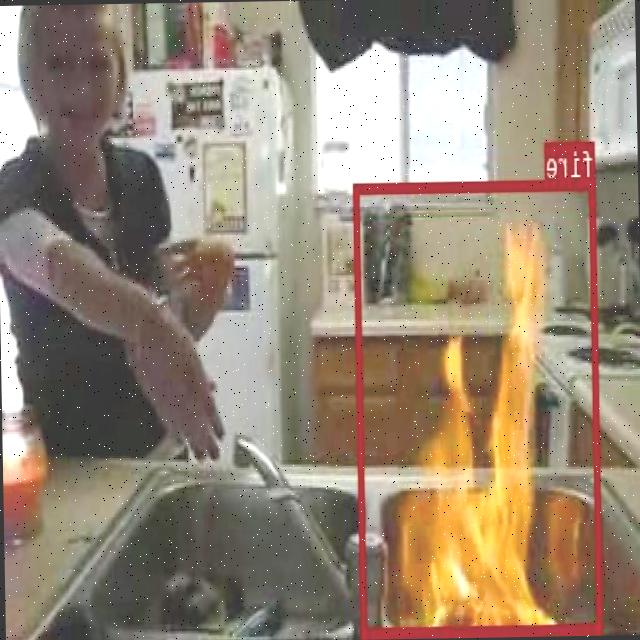fire: (355, 178, 604, 634)
